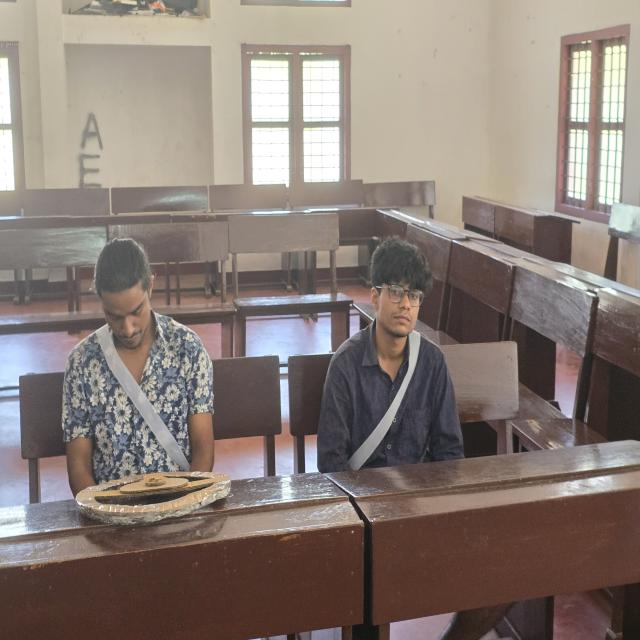seatbelt: (71, 344, 212, 469), (341, 340, 446, 474)
